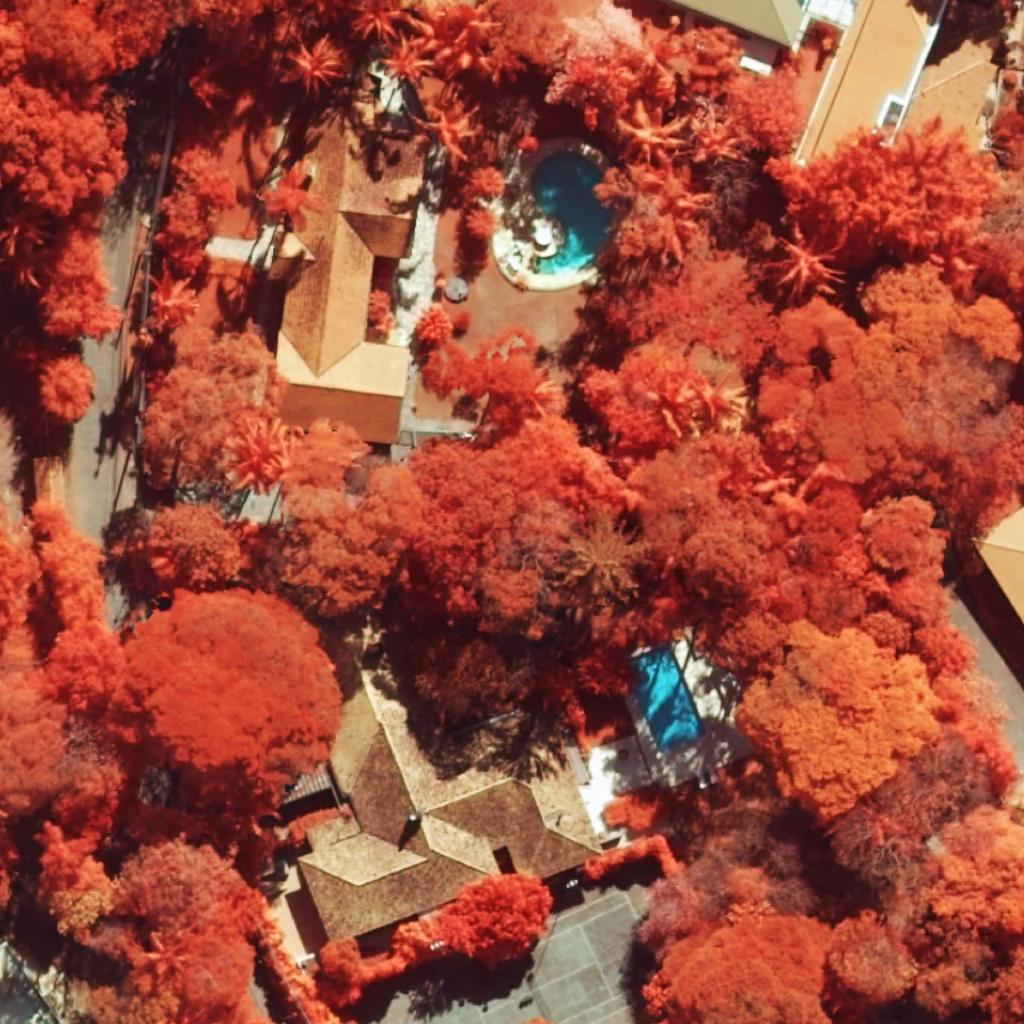pool: (531, 151, 612, 276), (629, 644, 707, 754)
